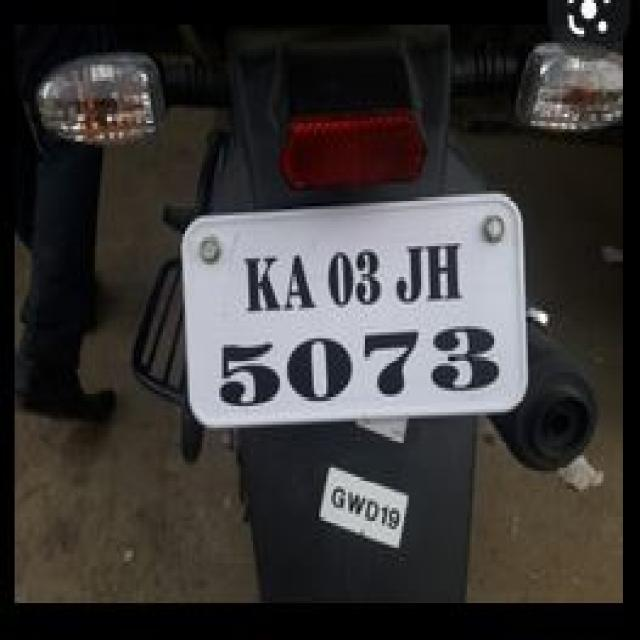number plate: (178, 188, 530, 428)
